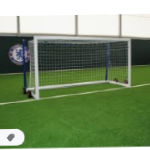goals: (26, 33, 135, 101)
